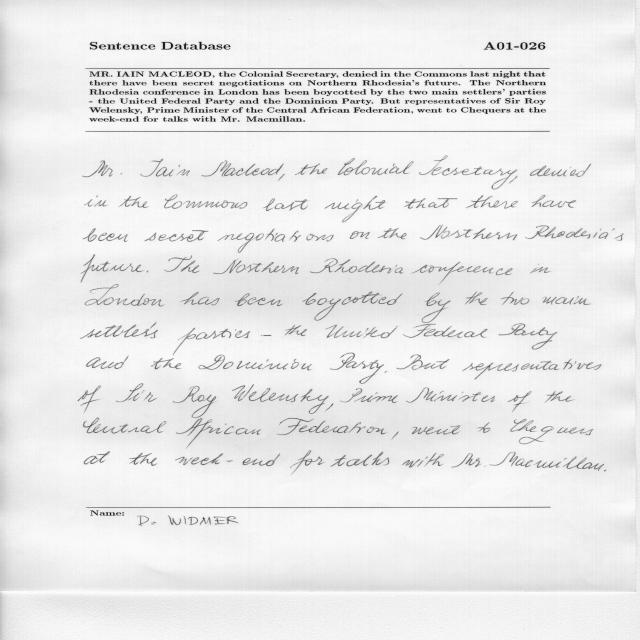word: (80, 324, 196, 356), (419, 156, 517, 190), (85, 284, 165, 323), (303, 291, 402, 321), (463, 359, 602, 380), (232, 384, 329, 414), (218, 229, 334, 253), (176, 418, 261, 448), (490, 452, 605, 471), (412, 262, 513, 283), (510, 419, 593, 444), (276, 418, 386, 435), (81, 255, 144, 283), (198, 355, 312, 370), (330, 353, 384, 384), (324, 196, 386, 222), (499, 324, 557, 350), (310, 258, 403, 274), (525, 226, 624, 241), (420, 225, 517, 240), (406, 387, 495, 403), (173, 386, 217, 418), (175, 454, 280, 467), (202, 161, 284, 177), (338, 158, 414, 175), (213, 259, 299, 274), (84, 418, 167, 433), (403, 324, 487, 338), (165, 195, 248, 209), (325, 325, 398, 338), (140, 159, 190, 177), (422, 292, 451, 323), (331, 452, 390, 467), (340, 388, 398, 403), (530, 163, 591, 177), (397, 355, 450, 370), (178, 329, 250, 340), (145, 230, 209, 242), (116, 384, 158, 402), (290, 451, 325, 472), (466, 195, 518, 209), (83, 161, 122, 178), (164, 256, 200, 274), (83, 228, 128, 242), (402, 453, 444, 468), (235, 293, 283, 306), (78, 386, 101, 412), (87, 355, 129, 369), (263, 198, 308, 211), (405, 198, 458, 209), (532, 195, 576, 208), (507, 391, 532, 412), (181, 292, 220, 305), (452, 454, 485, 468), (543, 296, 591, 305), (412, 426, 460, 435), (501, 292, 530, 305), (84, 451, 110, 465), (129, 453, 157, 466), (295, 164, 328, 175), (119, 196, 149, 208), (545, 391, 573, 403), (151, 358, 181, 369), (378, 228, 407, 239), (465, 292, 488, 305), (85, 196, 107, 207), (285, 325, 307, 336), (530, 264, 551, 274), (350, 231, 370, 239), (478, 422, 490, 433), (326, 403, 334, 411), (509, 176, 517, 183), (278, 174, 285, 181), (392, 432, 399, 439), (261, 335, 271, 336), (384, 371, 387, 373), (604, 470, 606, 472), (147, 271, 149, 272)
